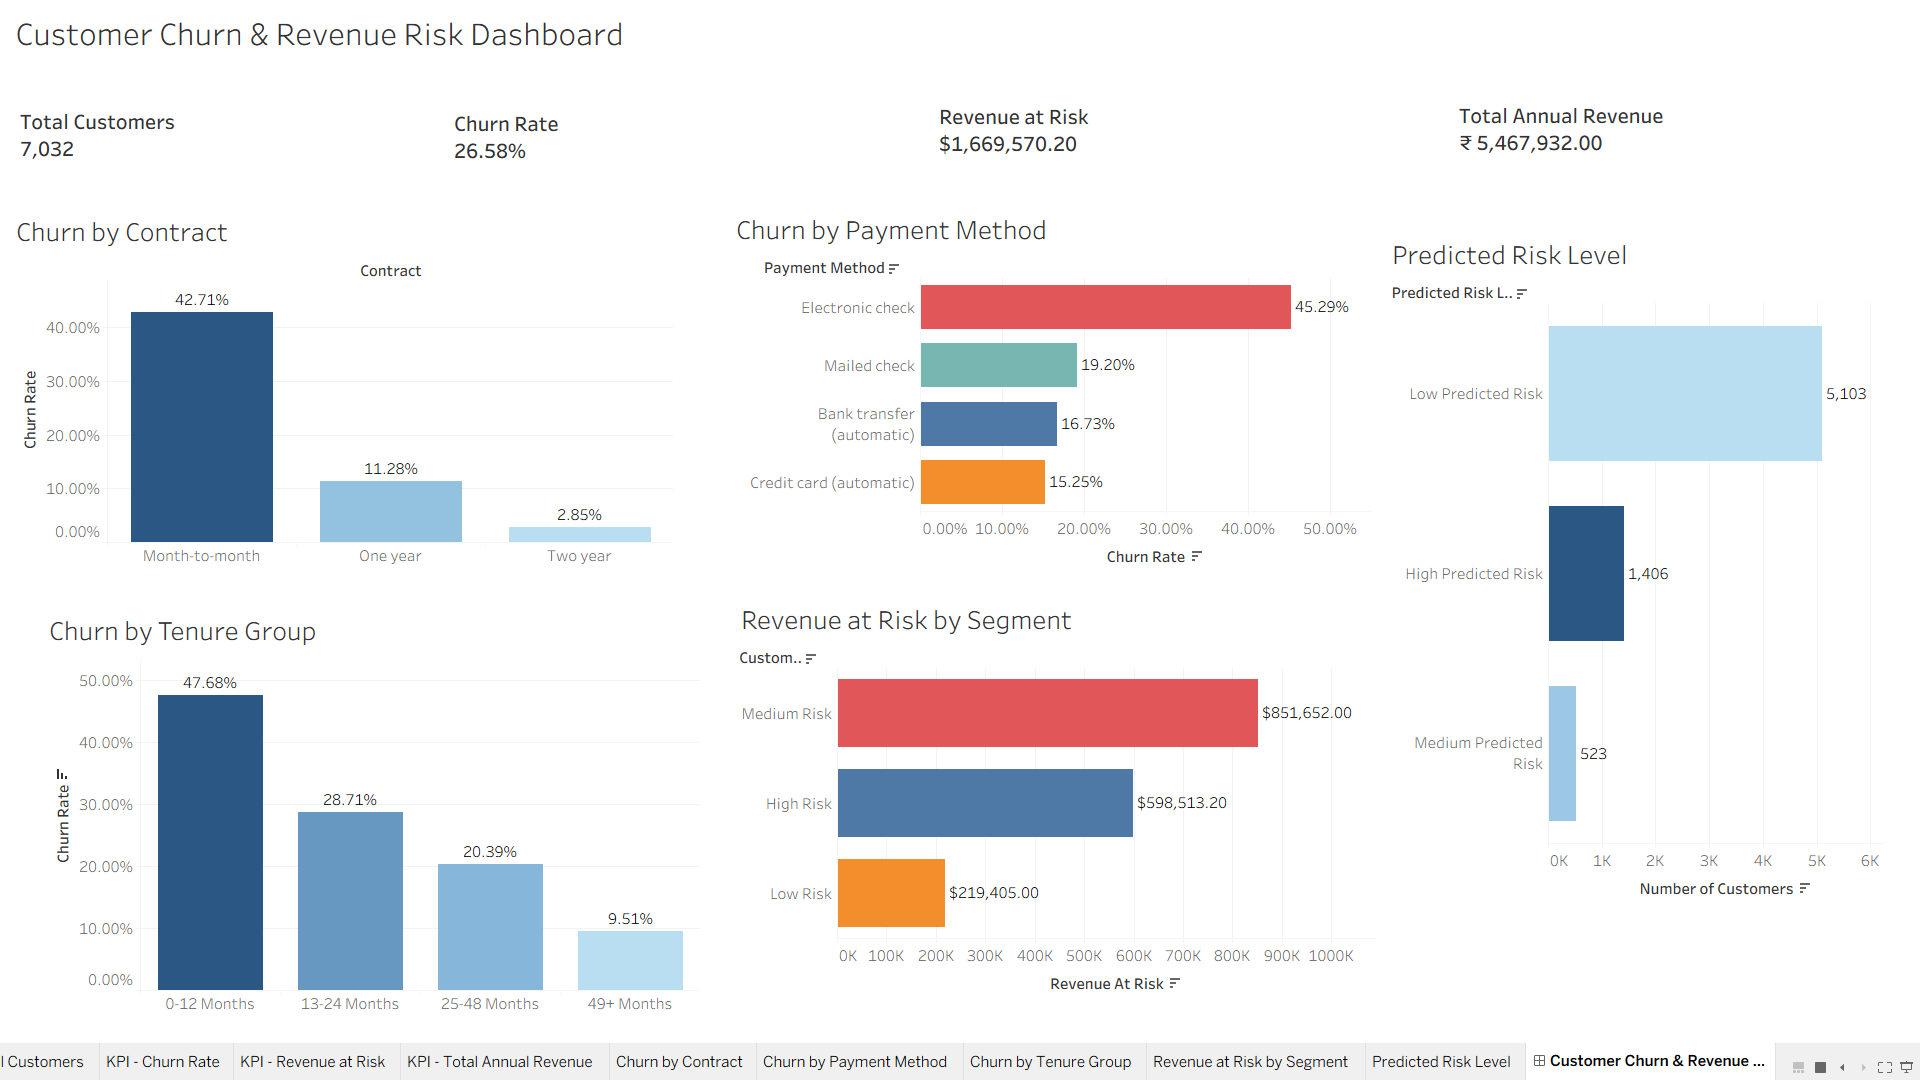

This screenshot's page, from the dashboard's own definition file:
{"tool":"tableau","page":{"name":"Customer Churn & Revenue Risk Dashboard","canvas":[1000,1000],"units":"permille","ordinal":0},"visuals":[{"type":"title","box":[4.8,9.4,990.3,58.8]},{"type":"worksheet","title":"KPI - Total Annual Revenue","mark":"Automatic","box":[758,75.2,212.4,98.7]},{"type":"worksheet","title":"KPI - Churn Rate","mark":"Automatic","box":[234.2,83.4,146.7,96.4]},{"type":"worksheet","title":"KPI - Revenue at Risk","mark":"Automatic","box":[487,85.8,172.6,79.9]},{"type":"worksheet","title":"KPI - Total Customers","mark":"Automatic","box":[8.4,89.3,154.5,83.4]},{"type":"worksheet","title":"Churn by Payment Method","mark":"Automatic","rows":["PaymentMethod"],"cols":["ChurnFlag"],"box":[381.4,199.8,333.1,351.4]},{"type":"worksheet","title":"Churn by Contract","mark":"Automatic","rows":["ChurnFlag"],"cols":["Contract"],"box":[6,200.9,344.6,341.9]},{"type":"worksheet","title":"Predicted Risk Level","mark":"Automatic","rows":["PredictedRiskLevel"],"cols":["customerID"],"box":[723,223.3,258.9,645.1]},{"type":"worksheet","title":"Revenue at Risk by Segment","mark":"Automatic","rows":["CustomerRiskSegment"],"cols":["RevenueAtRisk"],"box":[383.8,573.4,333.1,386.6]},{"type":"worksheet","title":"Churn by Tenure Group","mark":"Automatic","rows":["ChurnFlag"],"cols":["TenureGroup"],"box":[23.5,584,341,388.9]}]}

Visuals, with their boxes on the dashboard's canvas, which has no fixed pixel size, in thousandths of its width and height (x1, y1, x2, y2). These are canvas units, not pixel positions in the 1920x1080 screenshot, which may show the page scaled, cropped or inside an application window:
title: bbox=(5, 9, 995, 68)
"KPI - Total Annual Revenue" worksheet: bbox=(758, 75, 970, 174)
"KPI - Churn Rate" worksheet: bbox=(234, 83, 381, 180)
"KPI - Revenue at Risk" worksheet: bbox=(487, 86, 660, 166)
"KPI - Total Customers" worksheet: bbox=(8, 89, 163, 173)
"Churn by Payment Method" worksheet: bbox=(381, 200, 714, 551)
"Churn by Contract" worksheet: bbox=(6, 201, 351, 543)
"Predicted Risk Level" worksheet: bbox=(723, 223, 982, 868)
"Revenue at Risk by Segment" worksheet: bbox=(384, 573, 717, 960)
"Churn by Tenure Group" worksheet: bbox=(24, 584, 364, 973)
